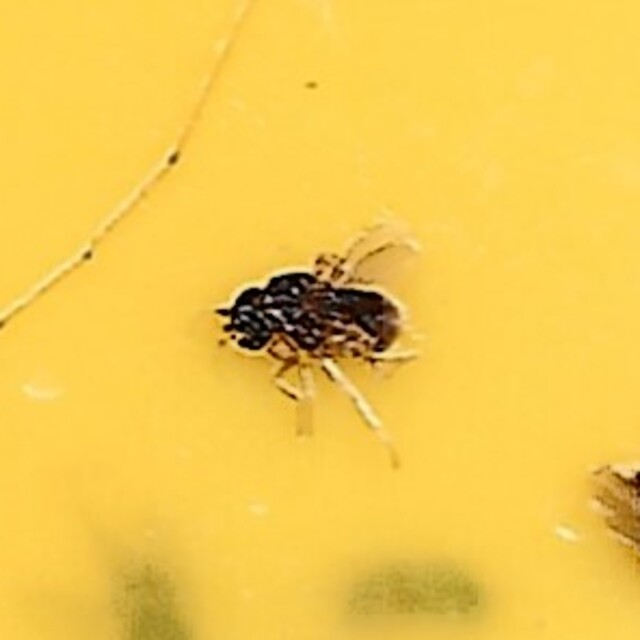Brachycera: (216, 213, 424, 427)
